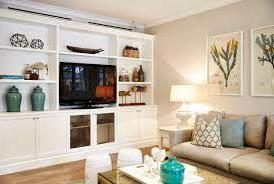chair: (84, 150, 112, 183), (117, 148, 141, 169)
light: (168, 81, 198, 129)
sofa: (173, 112, 272, 184)
table: (90, 157, 252, 184), (58, 63, 118, 110), (153, 125, 195, 152)
